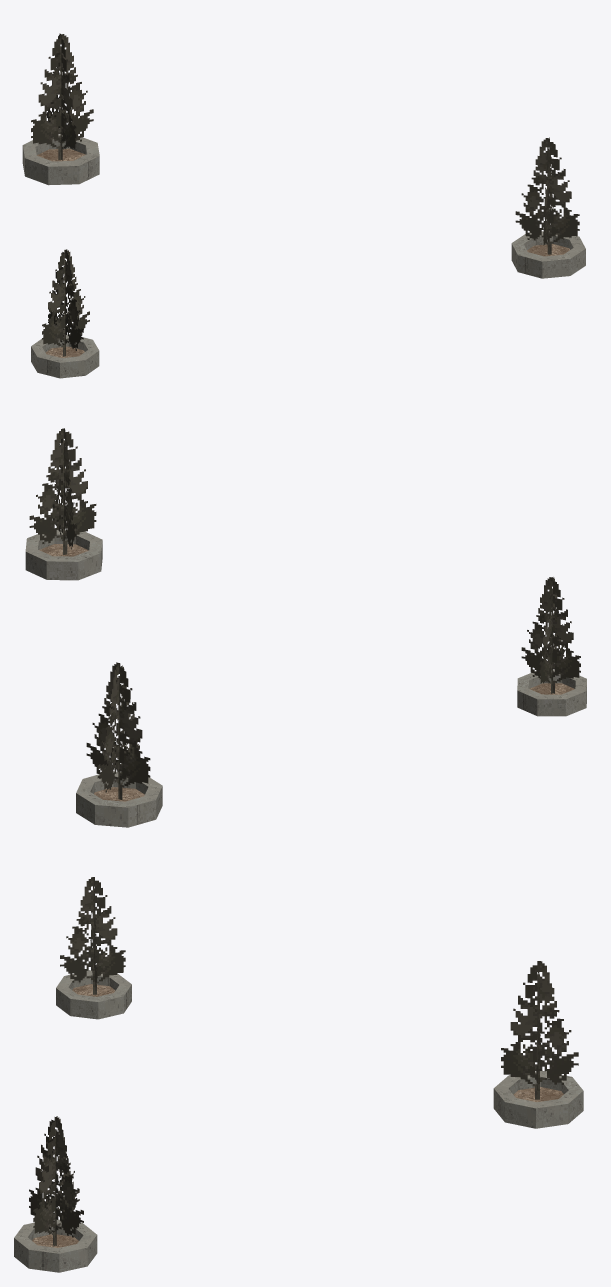
The model's file is procgen-procpain-tree-park-pine-large-xm1z1.obj.
3 renders of one model, top to bottom at view 1: azimuth 30°, elevation 25°; view 2: azimuth 150°, elevation 25°; view 3: azimuth 270°, elevation 25°, orthographic. The views are drawn at different scales.
Size of the model in its own units: 45.86 by 10.96 by 38.94.
